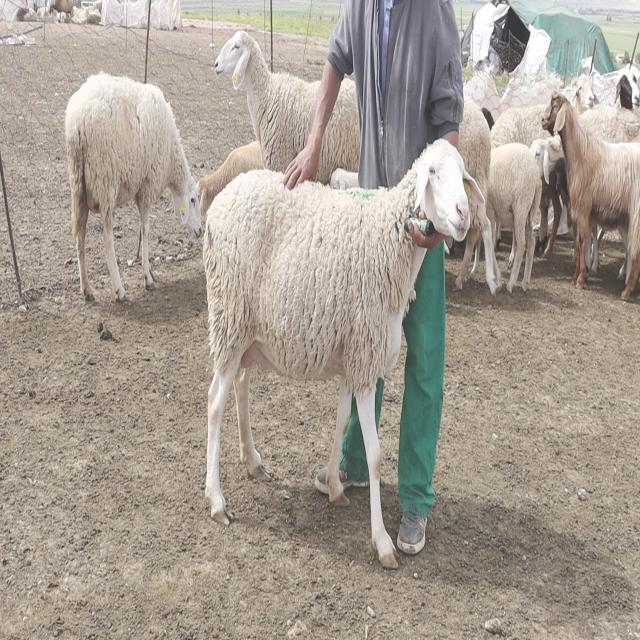Score_3: (203, 139, 484, 566)
